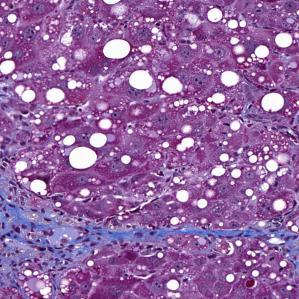fibrosis: (0, 170, 75, 295), (201, 225, 299, 265), (58, 217, 156, 256)
